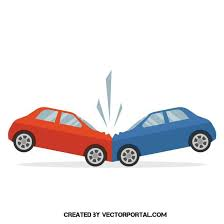accident: (27, 110, 197, 170)
